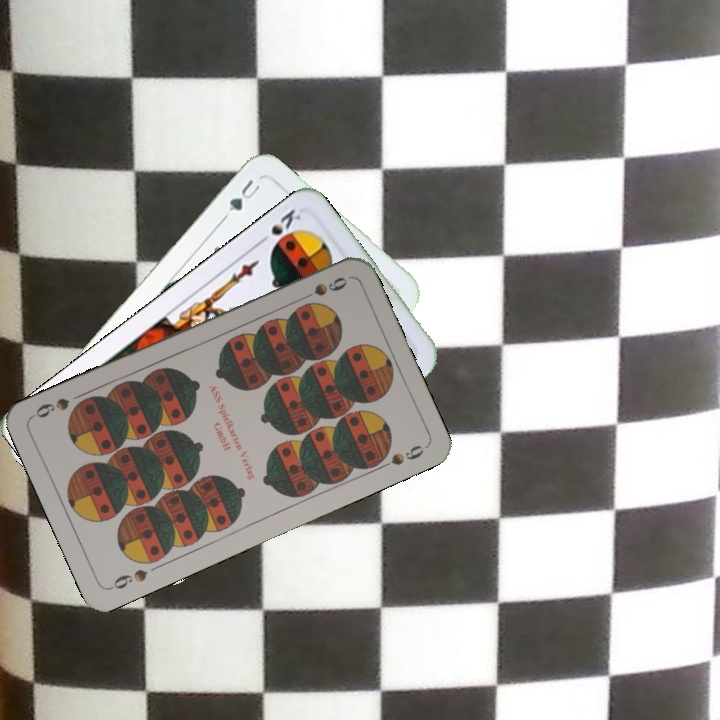GU: (224, 175, 263, 214)
S9: (295, 272, 350, 304), (106, 565, 150, 592)
SK: (253, 204, 304, 248)
